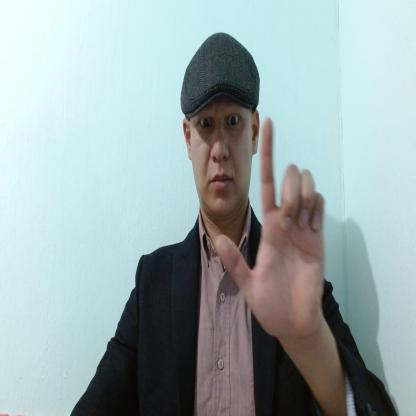L: (215, 115, 323, 340)
